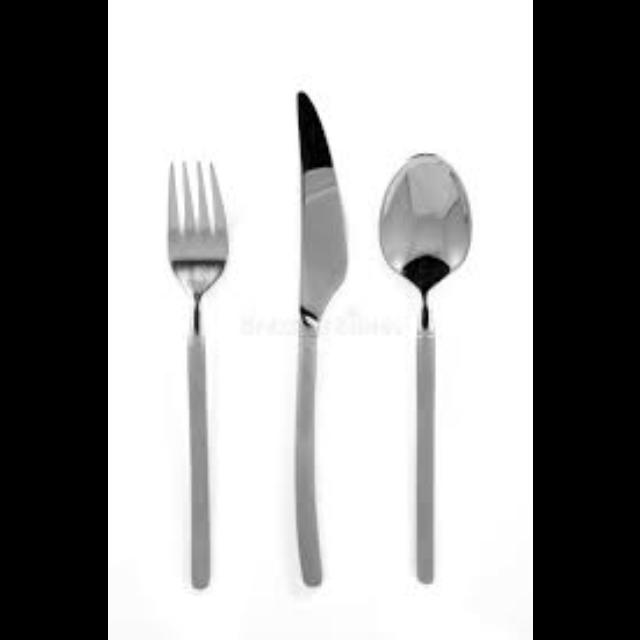Knife: (294, 88, 346, 586)
